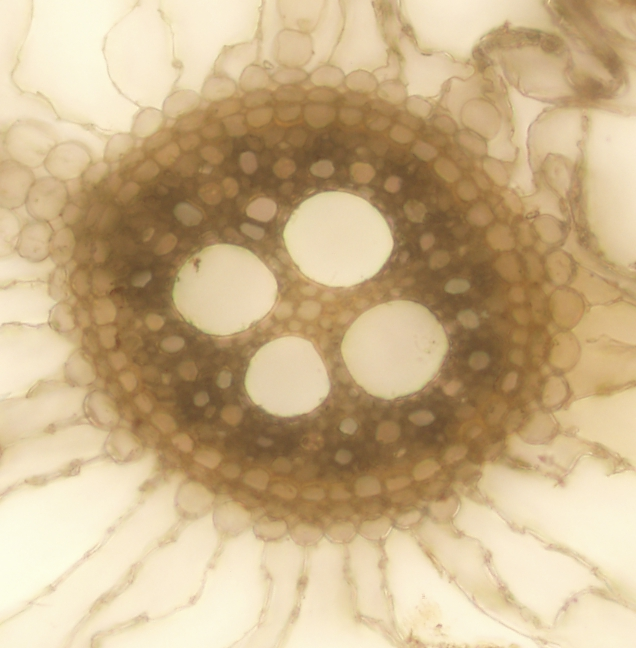lm: (283, 191, 393, 287), (342, 300, 448, 398), (172, 242, 277, 337), (243, 335, 330, 417)
